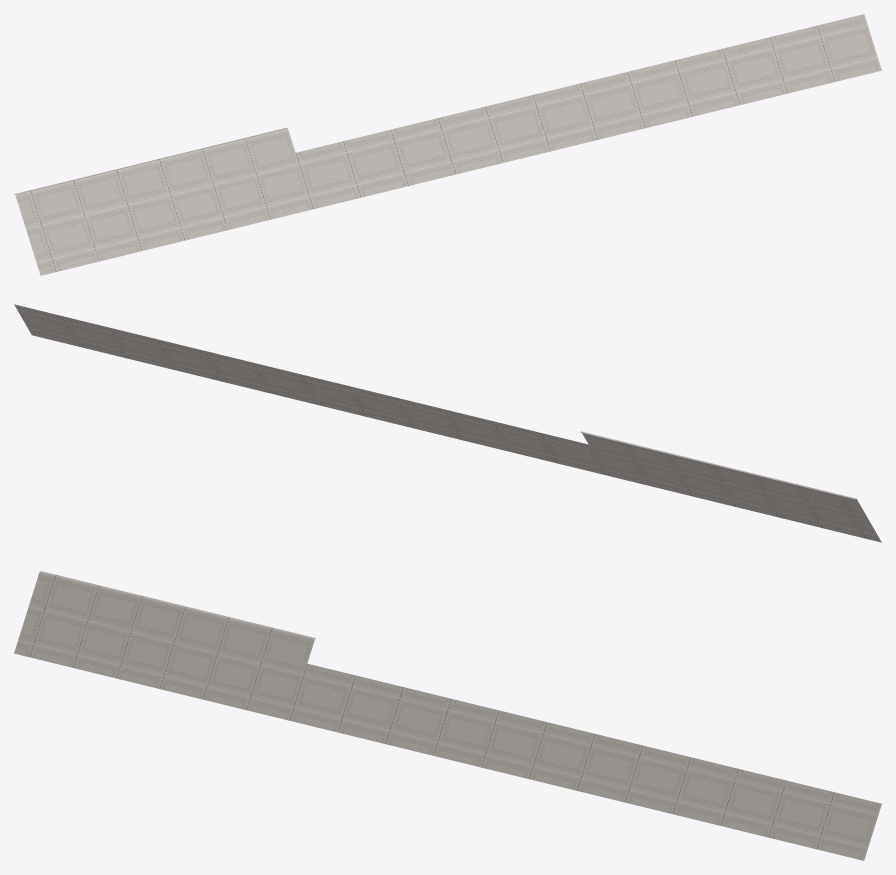
Rendered from kd_stage_135ded_1_16_exterior.glb.
3 views of the same model, one above another, from view 1: azimuth 30°, elevation 25°; view 2: azimuth 150°, elevation 25°; view 3: azimuth 330°, elevation 25° (orthographic).
Parts seen in each view (by area): view 1: kd_stage_135ded_1_16_exterior; view 2: kd_stage_135ded_1_16_exterior; view 3: kd_stage_135ded_1_16_exterior.
Part boxes in pixels (bbox=[...]): kd_stage_135ded_1_16_exterior: bbox=[14, 14, 881, 275]; kd_stage_135ded_1_16_exterior: bbox=[14, 304, 881, 542]; kd_stage_135ded_1_16_exterior: bbox=[14, 571, 881, 860].
Size of the model in its own units: 14.26 by 1.01 by 0.7824.
1 material, 1 textured.
